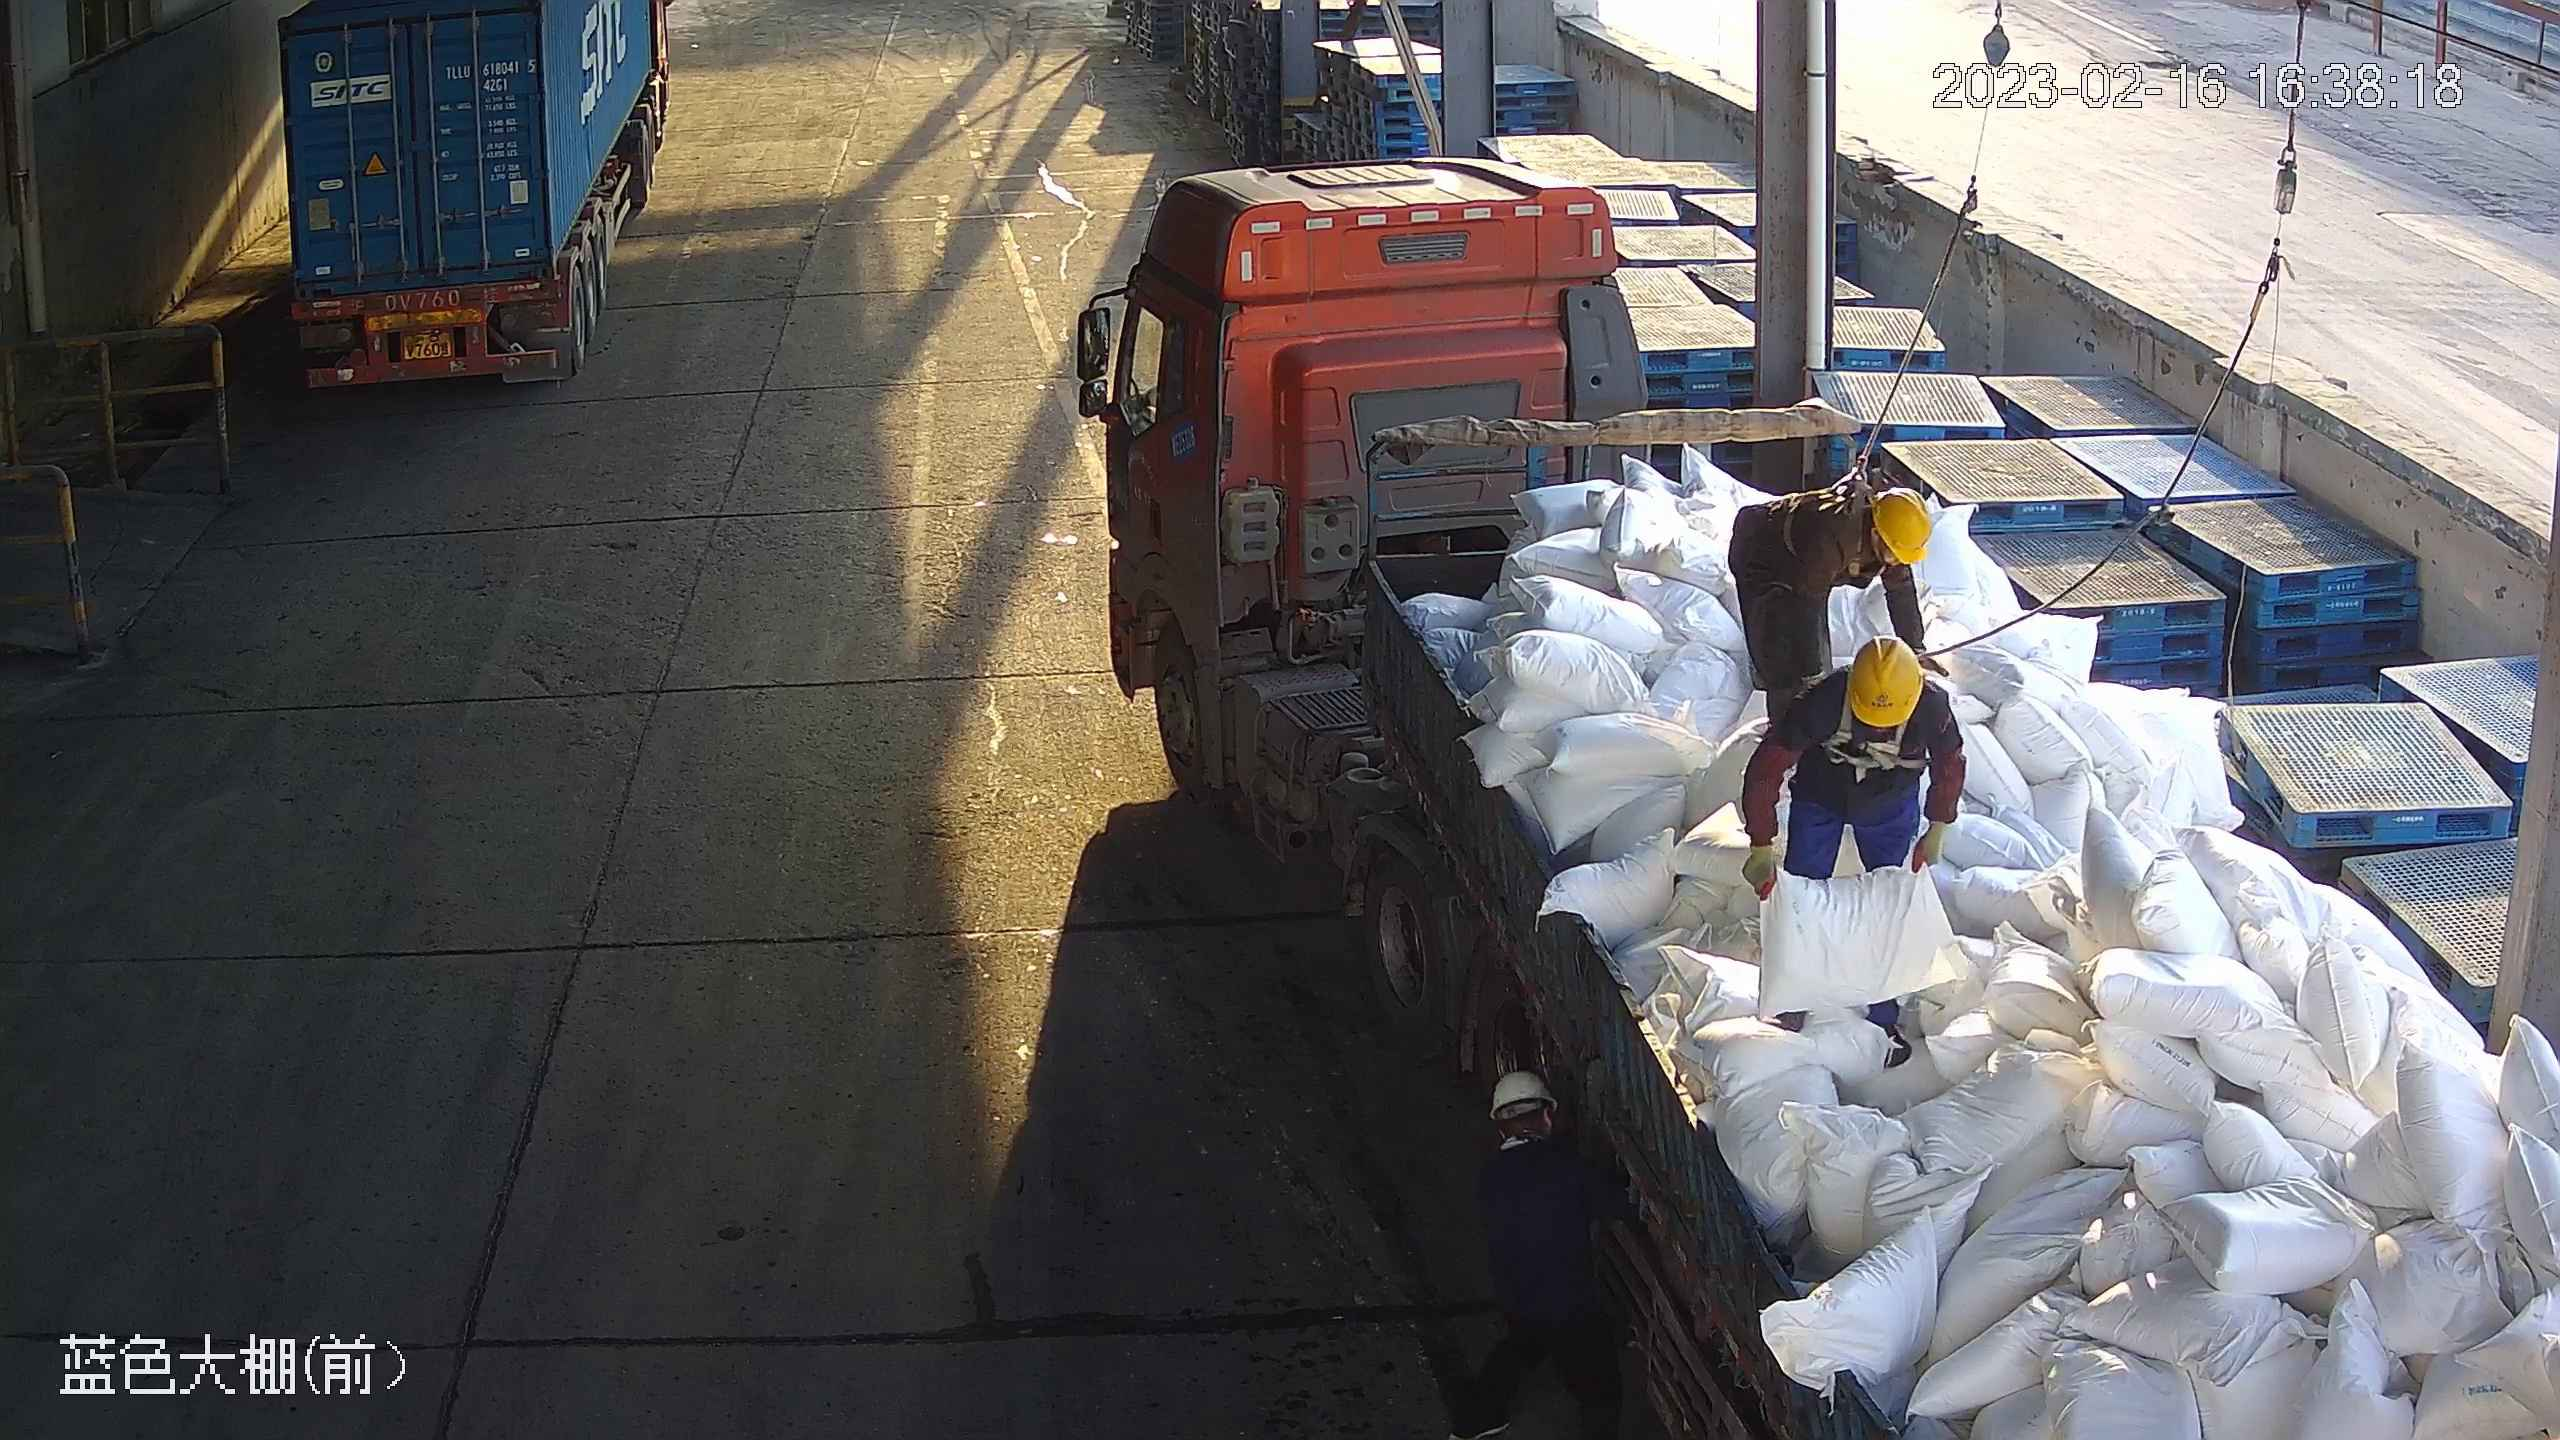belt: (1817, 707, 1925, 783), (1785, 461, 1870, 528)
head: (1806, 633, 1961, 789), (1803, 482, 1942, 612)
helmet: (1849, 636, 1923, 727), (1872, 487, 1934, 564)
people: (1742, 633, 1966, 1073), (1726, 485, 1949, 714)
truck: (1074, 154, 2560, 1440), (271, 1, 669, 393)
